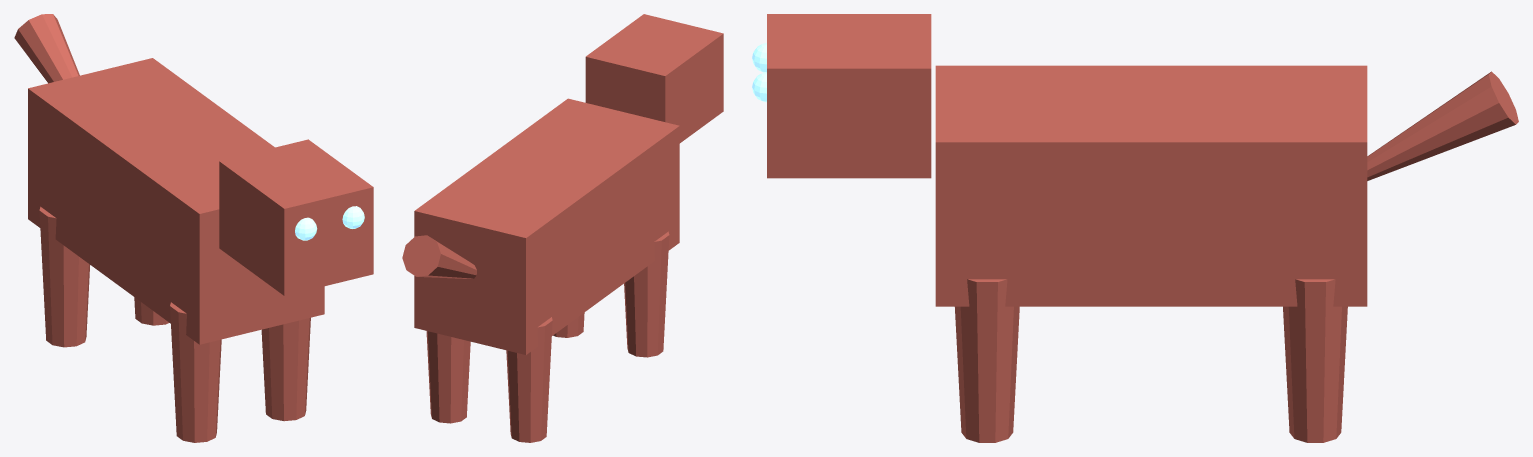
The picture shows the model from 3 angles, left to right: view 1: azimuth 30°, elevation 25°; view 2: azimuth 150°, elevation 25°; view 3: azimuth 270°, elevation 25°; orthographic projection. The views are drawn at different scales.
Visible parts, largest first — view 1: trunk, head, legFRm, legBRm, legFLm, tail, legBLm, eye, eye.001; view 2: trunk, head, legBRm, legFRm, legBLm, tail, legFLm; view 3: trunk, head, legBLm, legFLm, tail.
Boxes of the visible parts, left/top/right/bottom form: trunk: left=28, top=58, right=324, bottom=344; head: left=219, top=139, right=373, bottom=295; legFRm: left=170, top=302, right=221, bottom=442; legBRm: left=39, top=206, right=89, bottom=347; legFLm: left=261, top=317, right=310, bottom=421; tail: left=14, top=14, right=79, bottom=83; legBLm: left=134, top=297, right=169, bottom=325; eye: left=295, top=217, right=317, bottom=240; eye.001: left=342, top=206, right=364, bottom=228; trunk: left=414, top=98, right=679, bottom=354; head: left=585, top=14, right=723, bottom=143; legBRm: left=506, top=317, right=552, bottom=442; legFRm: left=624, top=231, right=669, bottom=357; legBLm: left=426, top=331, right=470, bottom=423; tail: left=402, top=235, right=476, bottom=278; legFLm: left=553, top=312, right=584, bottom=337; trunk: left=935, top=65, right=1367, bottom=306; head: left=767, top=14, right=931, bottom=178; legBLm: left=1283, top=279, right=1347, bottom=442; legFLm: left=955, top=279, right=1019, bottom=442; tail: left=1367, top=71, right=1518, bottom=180.
Size of the model in its own units: 0.9043 by 1.86 by 3.55.
